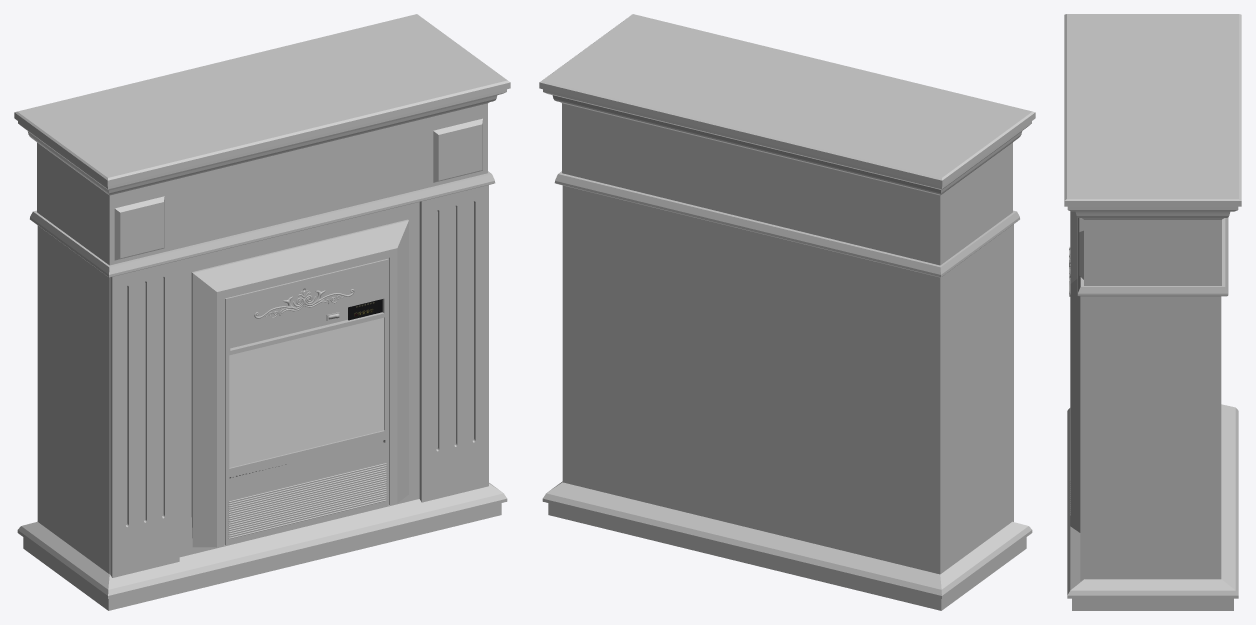
File: Helios.fbx
3 views of the same model, side by side, from view 1: azimuth 30°, elevation 25°; view 2: azimuth 150°, elevation 25°; view 3: azimuth 270°, elevation 25° (orthographic). The views are drawn at different scales.
Parts seen in each view (by area): view 1: Plane.022; view 2: Plane.022; view 3: Plane.022.
Boxes of the visible parts, bbox=[...] form: Plane.022: bbox=[14, 14, 510, 610]; Plane.022: bbox=[539, 14, 1035, 610]; Plane.022: bbox=[1064, 14, 1241, 610].
Size of the model in its own units: 157 by 162 by 63.01.
